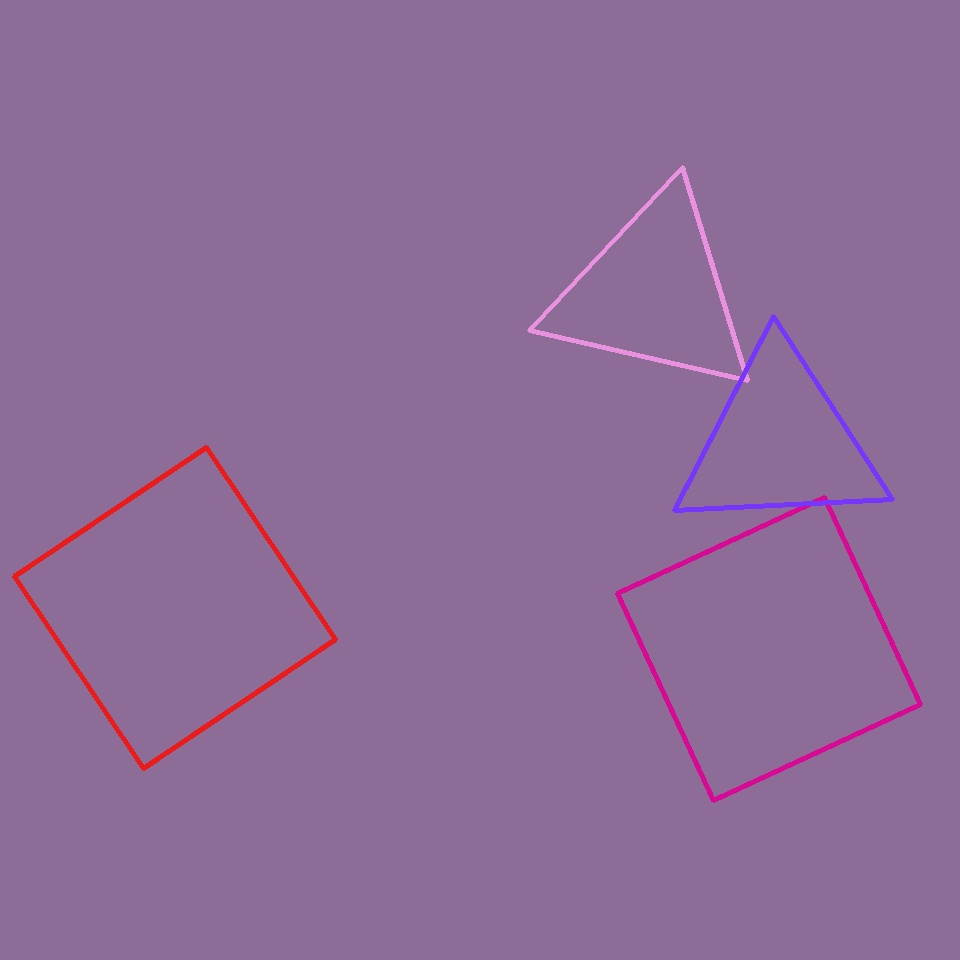circle: (544, 187, 762, 400), (671, 345, 889, 539)
square: (15, 448, 336, 768), (618, 497, 920, 800)
